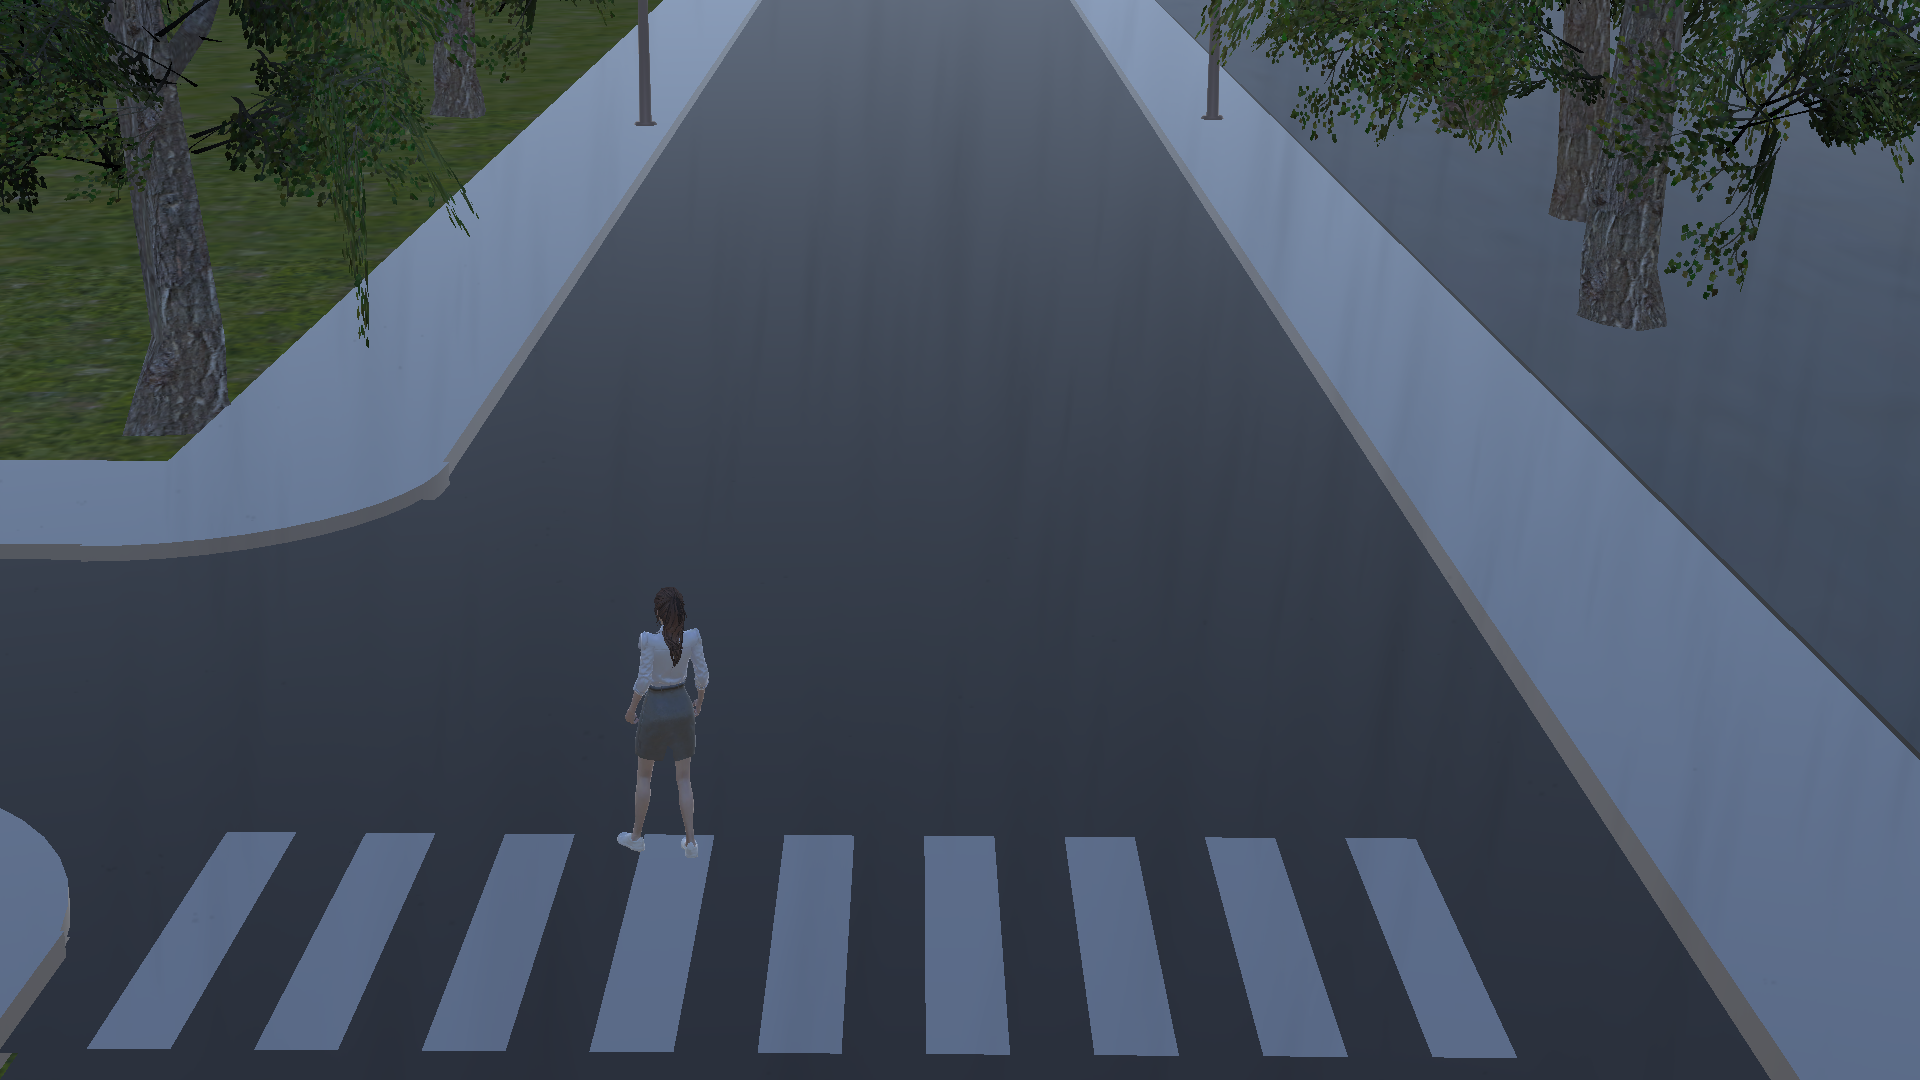pedestrian: (591, 579, 719, 862)
